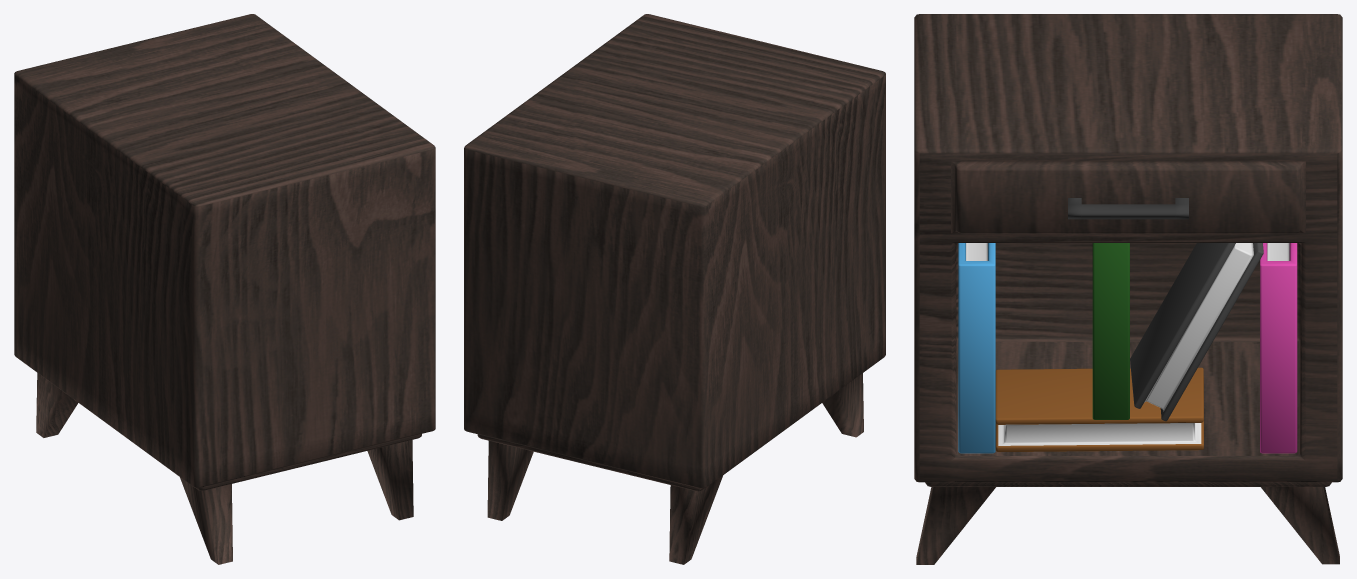
Rendered from LivingRoomEndTable.fbx.
3 renders of one model, left to right at view 1: azimuth 30°, elevation 25°; view 2: azimuth 150°, elevation 25°; view 3: azimuth 270°, elevation 25°, orthographic. The views are drawn at different scales.
Parts seen in each view (by area): view 1: Main, Legs, Bottom; view 2: Main, Legs, Bottom; view 3: Main, Book.003, Book.004, Book.001, Book, Book.002, Legs, Handle, Bottom.
Boxes of the visible parts, x1,y1,x2,y2 form: Main: (14, 14, 435, 488); Legs: (36, 373, 413, 564); Bottom: (196, 434, 421, 490); Main: (464, 14, 885, 488); Legs: (487, 373, 863, 564); Bottom: (477, 434, 703, 491); Main: (914, 14, 1342, 482); Book.003: (995, 367, 1203, 452); Book.004: (1130, 243, 1263, 421); Book.001: (958, 243, 995, 453); Book: (1260, 243, 1297, 453); Book.002: (1092, 243, 1129, 419); Legs: (916, 487, 1339, 564); Handle: (1068, 198, 1188, 219); Bottom: (925, 482, 1331, 486).
Bounding box in the file's own units: 172 × 220 × 200.
8 materials, 1 textured.
